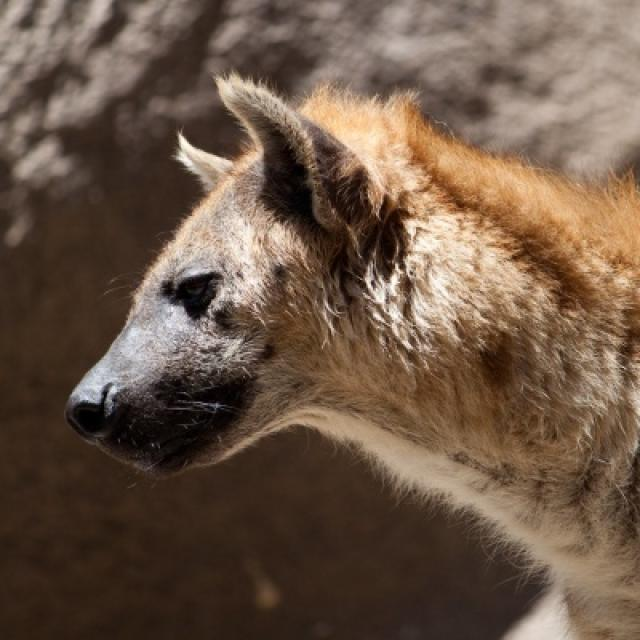hyena: (66, 74, 638, 638)
